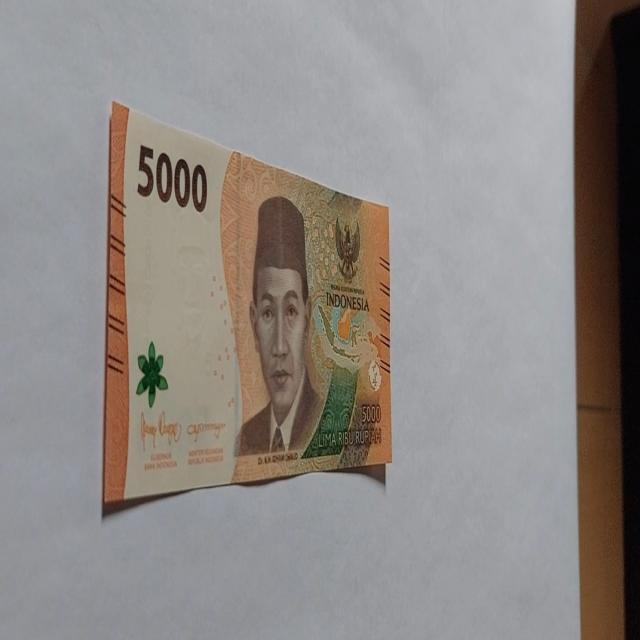lima ribu rupiah: (101, 100, 392, 516), (232, 194, 326, 462)
